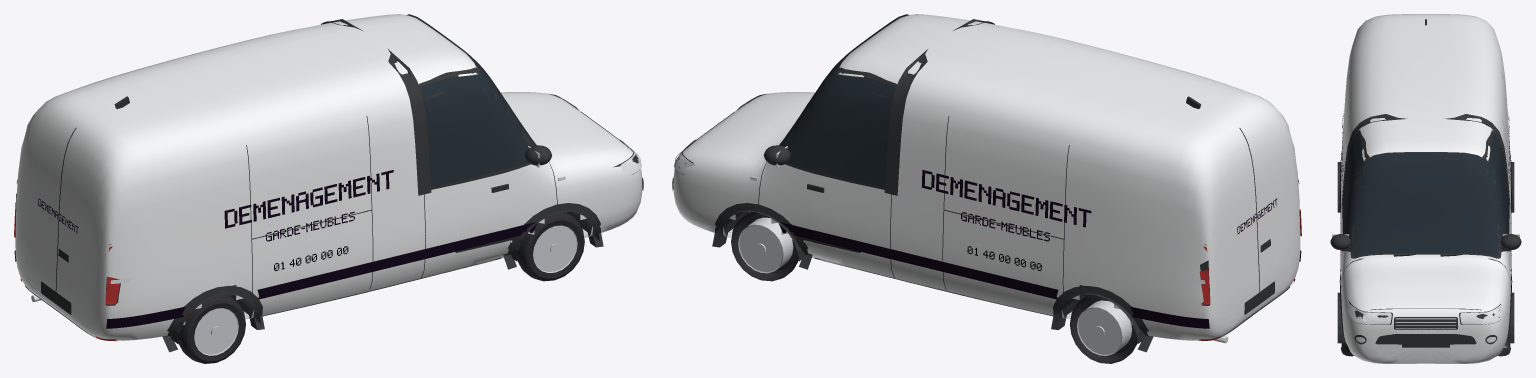
File: pro_demen.glb
3 views of the same model, side by side, from view 1: azimuth 30°, elevation 25°; view 2: azimuth 150°, elevation 25°; view 3: azimuth 270°, elevation 25° (orthographic). The views are drawn at different scales.
Parts seen in each view (by area): view 1: Body, Glass-1, ProStripe-1, WheelRR, WheelFR, Bpillar-1, ArchTrim-1.001, ArchTrim-1, WinFrame-1, ArchLiner.003; view 2: Body, Glass1, ProStripe1, WheelFL, WheelRL, Bpillar1, ArchTrim1.001, ArchTrim1, WinFrame1, ArchLiner.002; view 3: Body, Windshield, Glass1, Glass-1, Intake, HeadReflector, Grille, WsFrame, Bpillar1, Bpillar-1, HeadBezel, Mirror1 (+7 smaller).
Part boxes in pixels (x1,y1,x2,y2): Body: (15,14,642,340); Glass-1: (420,74,536,187); ProStripe-1: (106,222,536,328); WheelRR: (178,294,245,363); WheelFR: (517,212,584,281); Bpillar-1: (387,48,431,195); ArchTrim-1.001: (162,285,264,352); ArchTrim-1: (503,203,603,269); WinFrame-1: (418,67,532,189); ArchLiner.003: (170,292,260,343); Body: (673,14,1300,340); Glass1: (779,74,895,187); ProStripe1: (779,222,1209,328); WheelFL: (731,212,798,281); WheelRL: (1070,294,1137,363); Bpillar1: (884,49,927,195); ArchTrim1.001: (1051,285,1153,352); ArchTrim1: (712,203,812,269); WinFrame1: (785,67,897,189); ArchLiner.002: (1054,292,1145,343); Body: (1341,14,1510,363); Windshield: (1353,152,1498,256); Glass1: (1477,132,1509,250); Glass-1: (1342,132,1371,250); Intake: (1375,334,1476,344); HeadReflector: (1347,304,1503,324); Grille: (1394,317,1457,329); WsFrame: (1350,152,1501,258); Bpillar1: (1445,114,1510,208); Bpillar-1: (1341,114,1406,208); HeadBezel: (1348,300,1500,324); Mirror1: (1501,234,1521,249).
Size of the model in its own units: 5.62 by 2.34 by 2.15.
